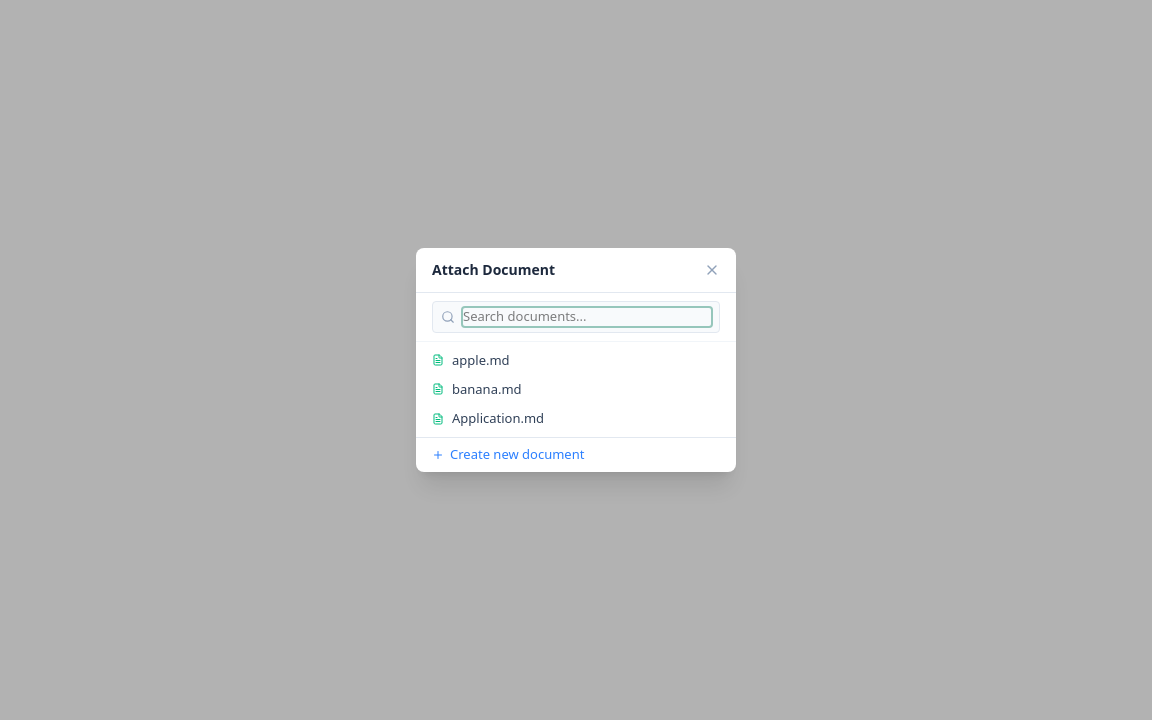
it: DocumentPicker — search › filters by case-insensitive substring match on the path
Type "app" into the field with placeholder "Search documents..." at (587, 317), box top-left (463, 308), bottom-right (711, 326)
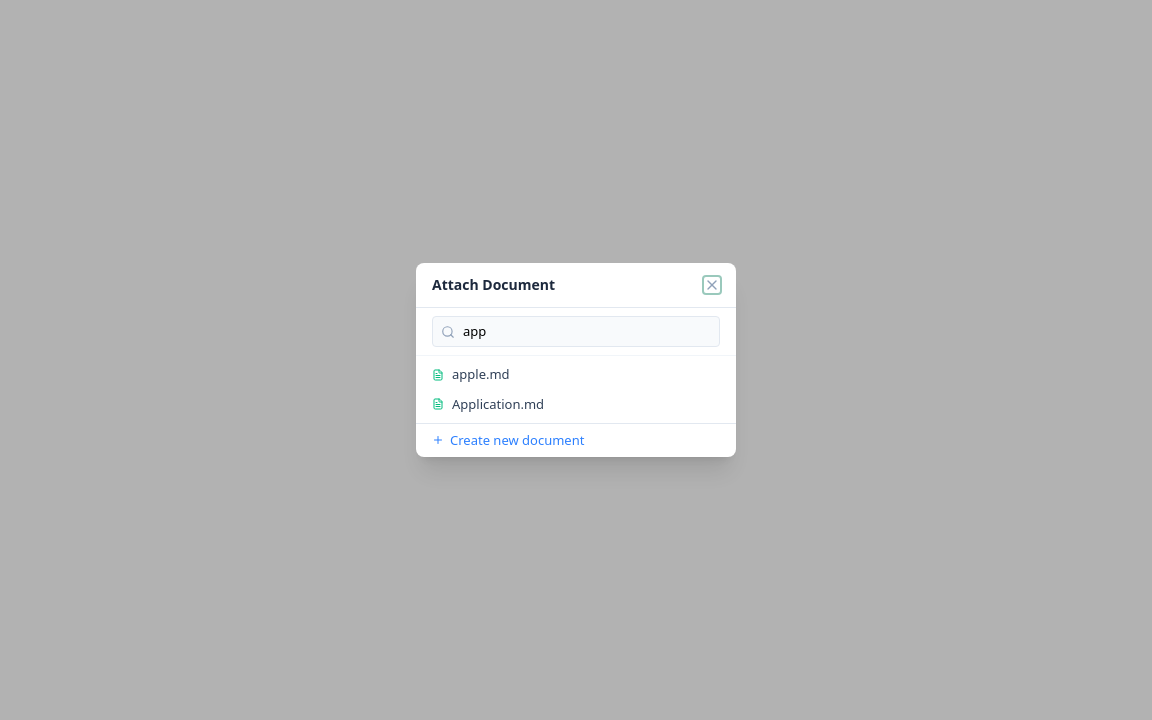
Expected: the text "apple.md" is shown, top-left (452, 366), bottom-right (510, 384)
Result: the button "banana.md" is gone
